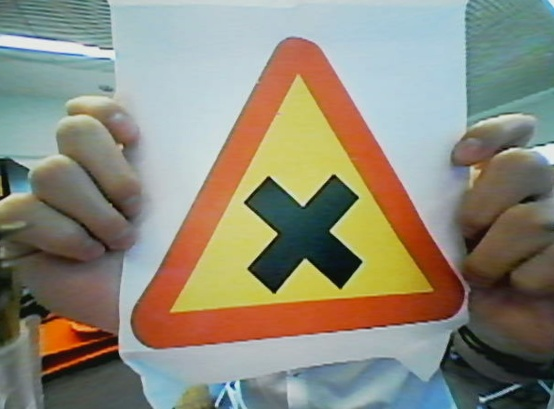junction: (111, 33, 493, 354)
